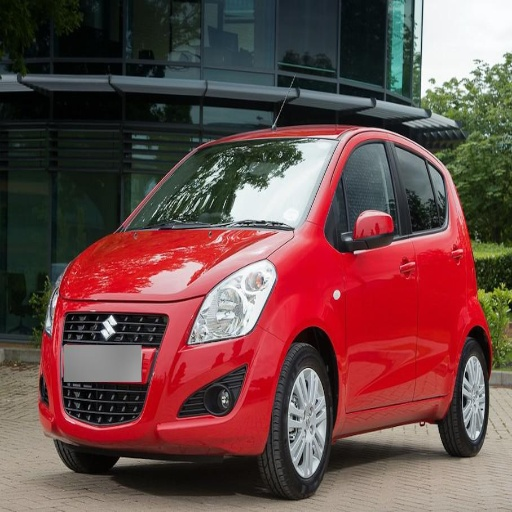back_left_door: (391, 137, 464, 396)
front_bumper: (45, 295, 288, 459)
front_glass: (122, 138, 337, 230)
front_left_door: (325, 134, 417, 411)
